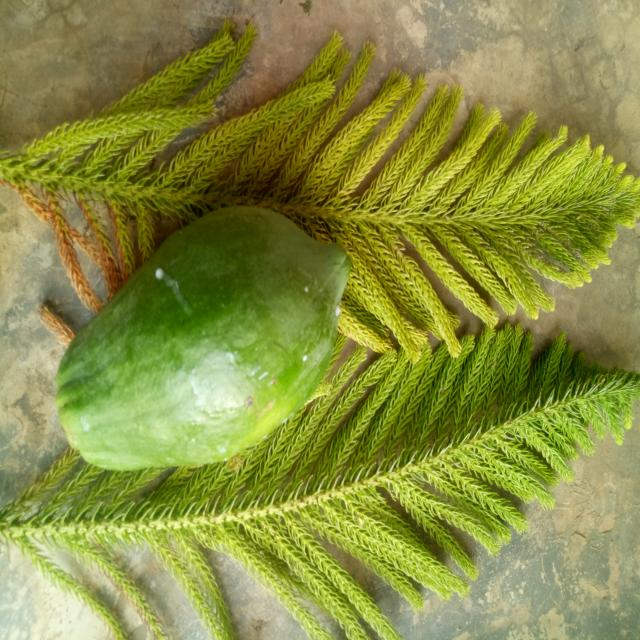Pepaya unrippen: (46, 193, 371, 479)
